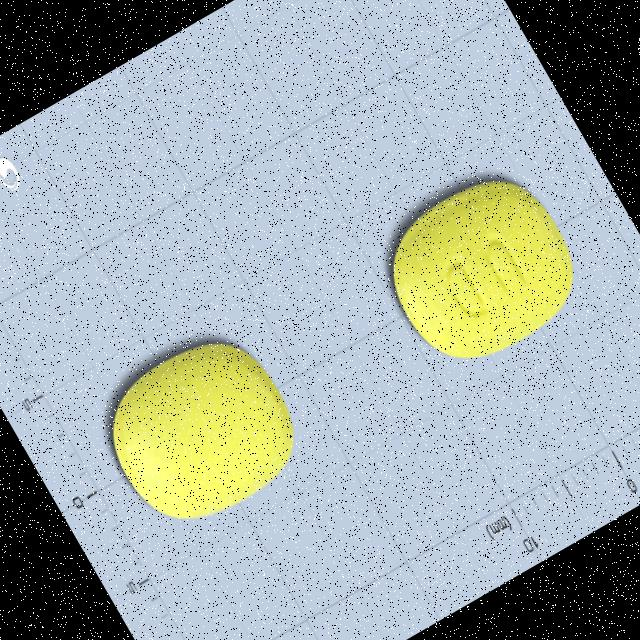Claxin - 500mg: (79, 312, 324, 552), (362, 152, 602, 388)
